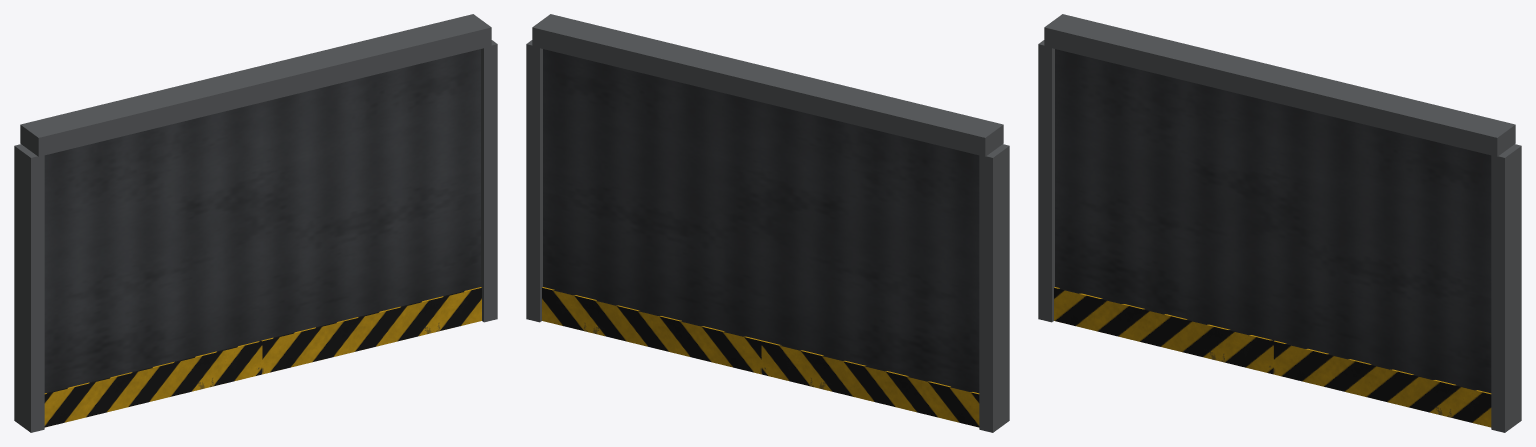
File: wall_steel.fbx
3 renders of one model, left to right at view 1: azimuth 30°, elevation 25°; view 2: azimuth 150°, elevation 25°; view 3: azimuth 330°, elevation 25°, orthographic.
Visible parts, largest first — view 1: wall_steel; view 2: wall_steel; view 3: wall_steel.
Part boxes in pixels (left/top/right/bottom): wall_steel: left=14, top=14, right=497, bottom=432; wall_steel: left=526, top=14, right=1009, bottom=432; wall_steel: left=1038, top=14, right=1521, bottom=432.
Size of the model in its own units: 10300 by 6200 by 700.
